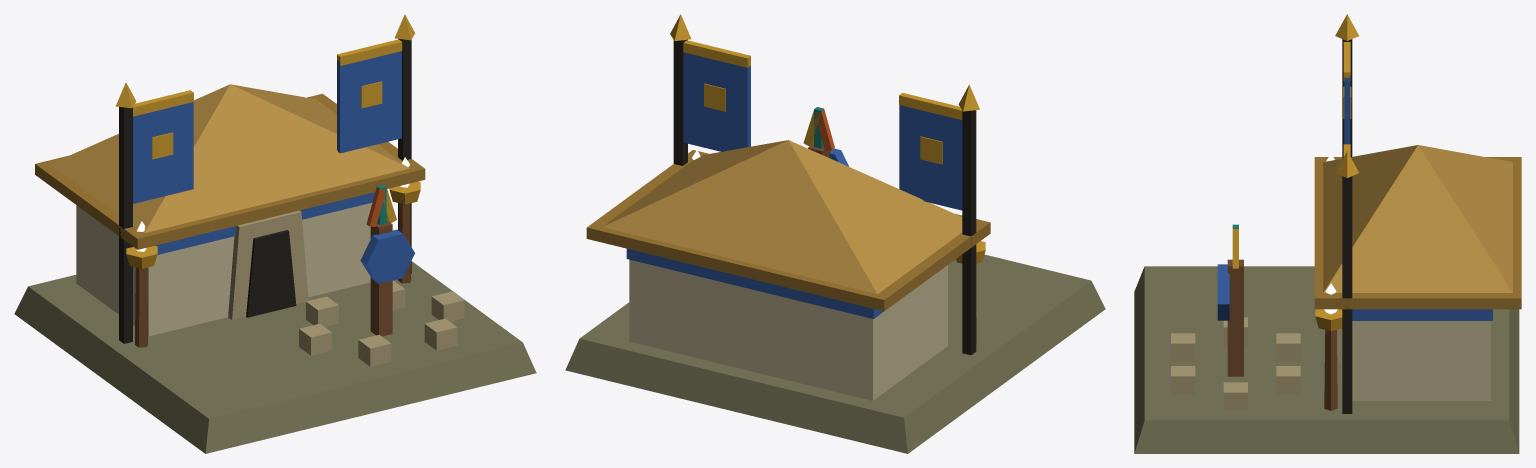
The model's file is camp_militia_t2.glb.
3 views of the same model, side by side, from view 1: azimuth 30°, elevation 25°; view 2: azimuth 150°, elevation 25°; view 3: azimuth 270°, elevation 25° (orthographic). The views are drawn at different scales.
Parts seen in each view (by area): view 1: body; view 2: body; view 3: body.
Boxes of the visible parts, box(x1,y1,x2,y2) form: body: box(14, 14, 536, 453); body: box(565, 14, 1105, 453); body: box(1134, 14, 1521, 453).
Bounding box in the file's own units: 1.9 × 1.58 × 1.91.
